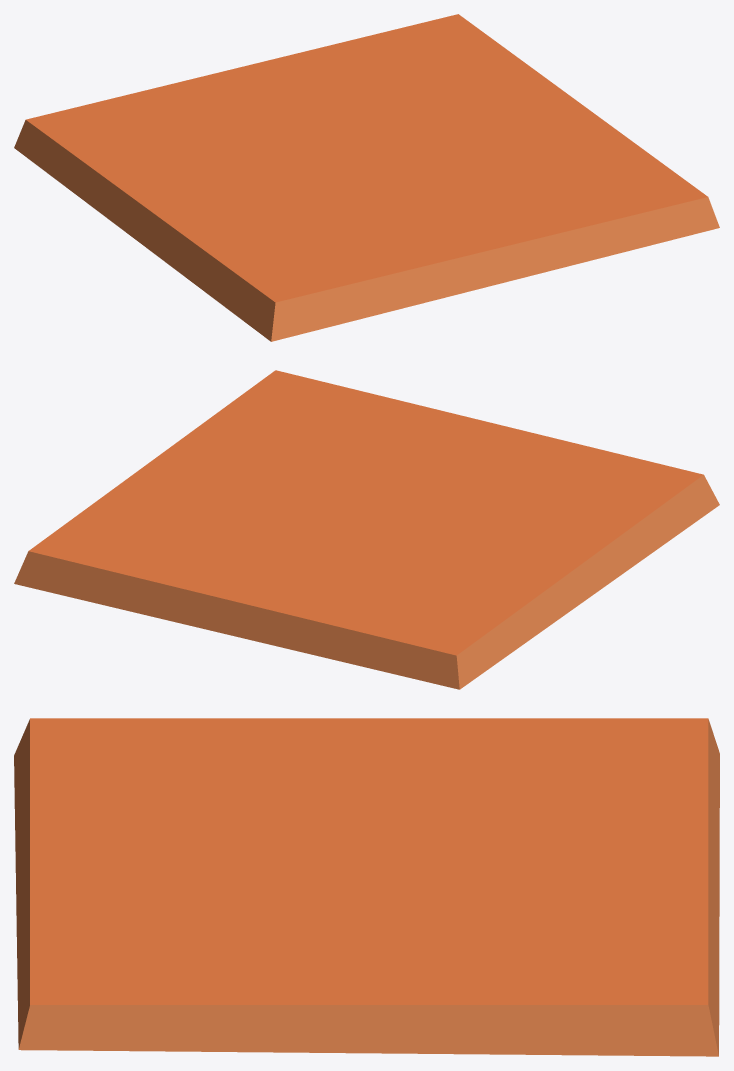
The model's file is decor_004.fbx.
3 renders of one model, top to bottom at view 1: azimuth 30°, elevation 25°; view 2: azimuth 150°, elevation 25°; view 3: azimuth 270°, elevation 25°, orthographic. The views are drawn at different scales.
Parts seen in each view (by area): view 1: decor_004; view 2: decor_004; view 3: decor_004.
Part boxes in pixels (<box>): decor_004: <box>14,14,719,341</box>; decor_004: <box>14,370,719,689</box>; decor_004: <box>14,718,719,1056</box>.
Bounding box in the file's own units: 184 × 12.73 × 183.
